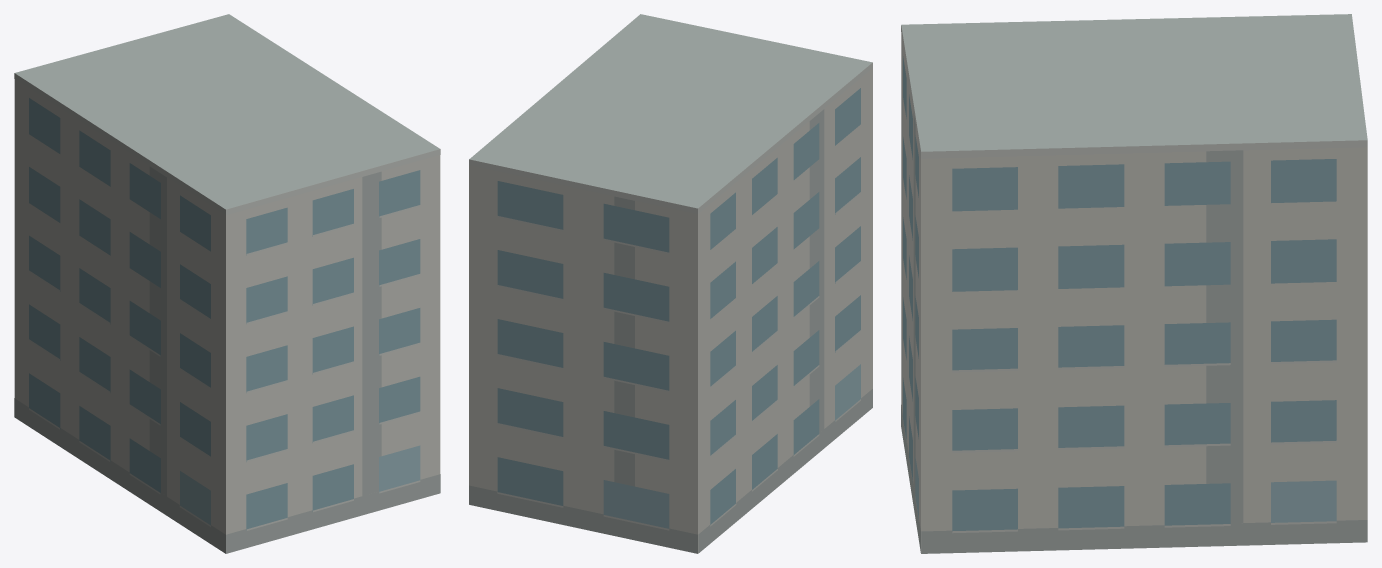
File: survey-upis-32888567.glb
3 renders of one model, left to right at view 1: azimuth 30°, elevation 25°; view 2: azimuth 150°, elevation 25°; view 3: azimuth 270°, elevation 25°, orthographic. The views are drawn at different scales.
Visible parts, largest first — view 1: survey-upis-32888567.tmp; view 2: survey-upis-32888567.tmp; view 3: survey-upis-32888567.tmp.
Boxes of the visible parts, x1=… form: survey-upis-32888567.tmp: x1=14, y1=14, x2=440, y2=553; survey-upis-32888567.tmp: x1=469, y1=14, x2=872, y2=553; survey-upis-32888567.tmp: x1=901, y1=14, x2=1367, y2=553.
Bounding box in the file's own units: 10.52 × 14.3 × 15.05.
